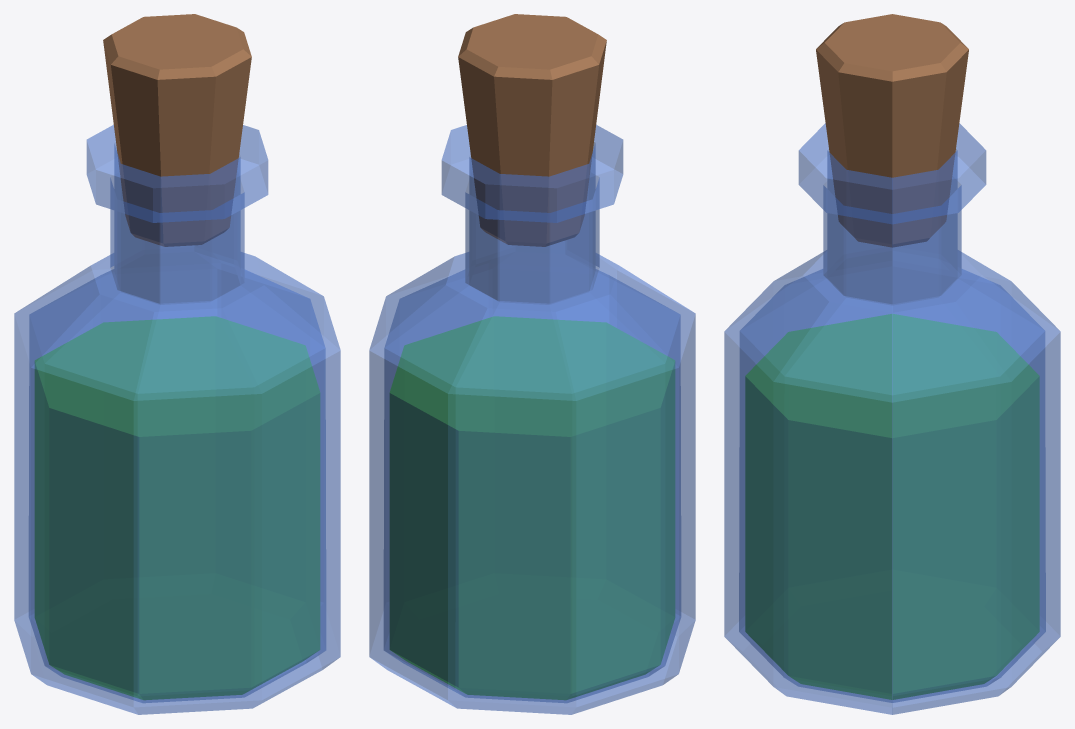
File: tincture_bottle.glb
The picture shows the model from 3 angles, left to right: view 1: azimuth 30°, elevation 25°; view 2: azimuth 150°, elevation 25°; view 3: azimuth 270°, elevation 25°; orthographic projection.
Visible parts, largest first — view 1: Cylinder; view 2: Cylinder; view 3: Cylinder.
Part boxes in pixels (box(x1,y1,x2,y2)): Cylinder: box(14, 14, 340, 714); Cylinder: box(369, 14, 695, 714); Cylinder: box(724, 14, 1060, 714).
Bounding box in the file's own units: 0.0861 × 0.1718 × 0.0861.
